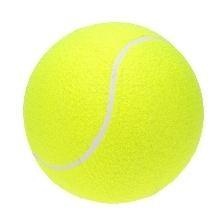Sports-Ball: (24, 25, 204, 204)
